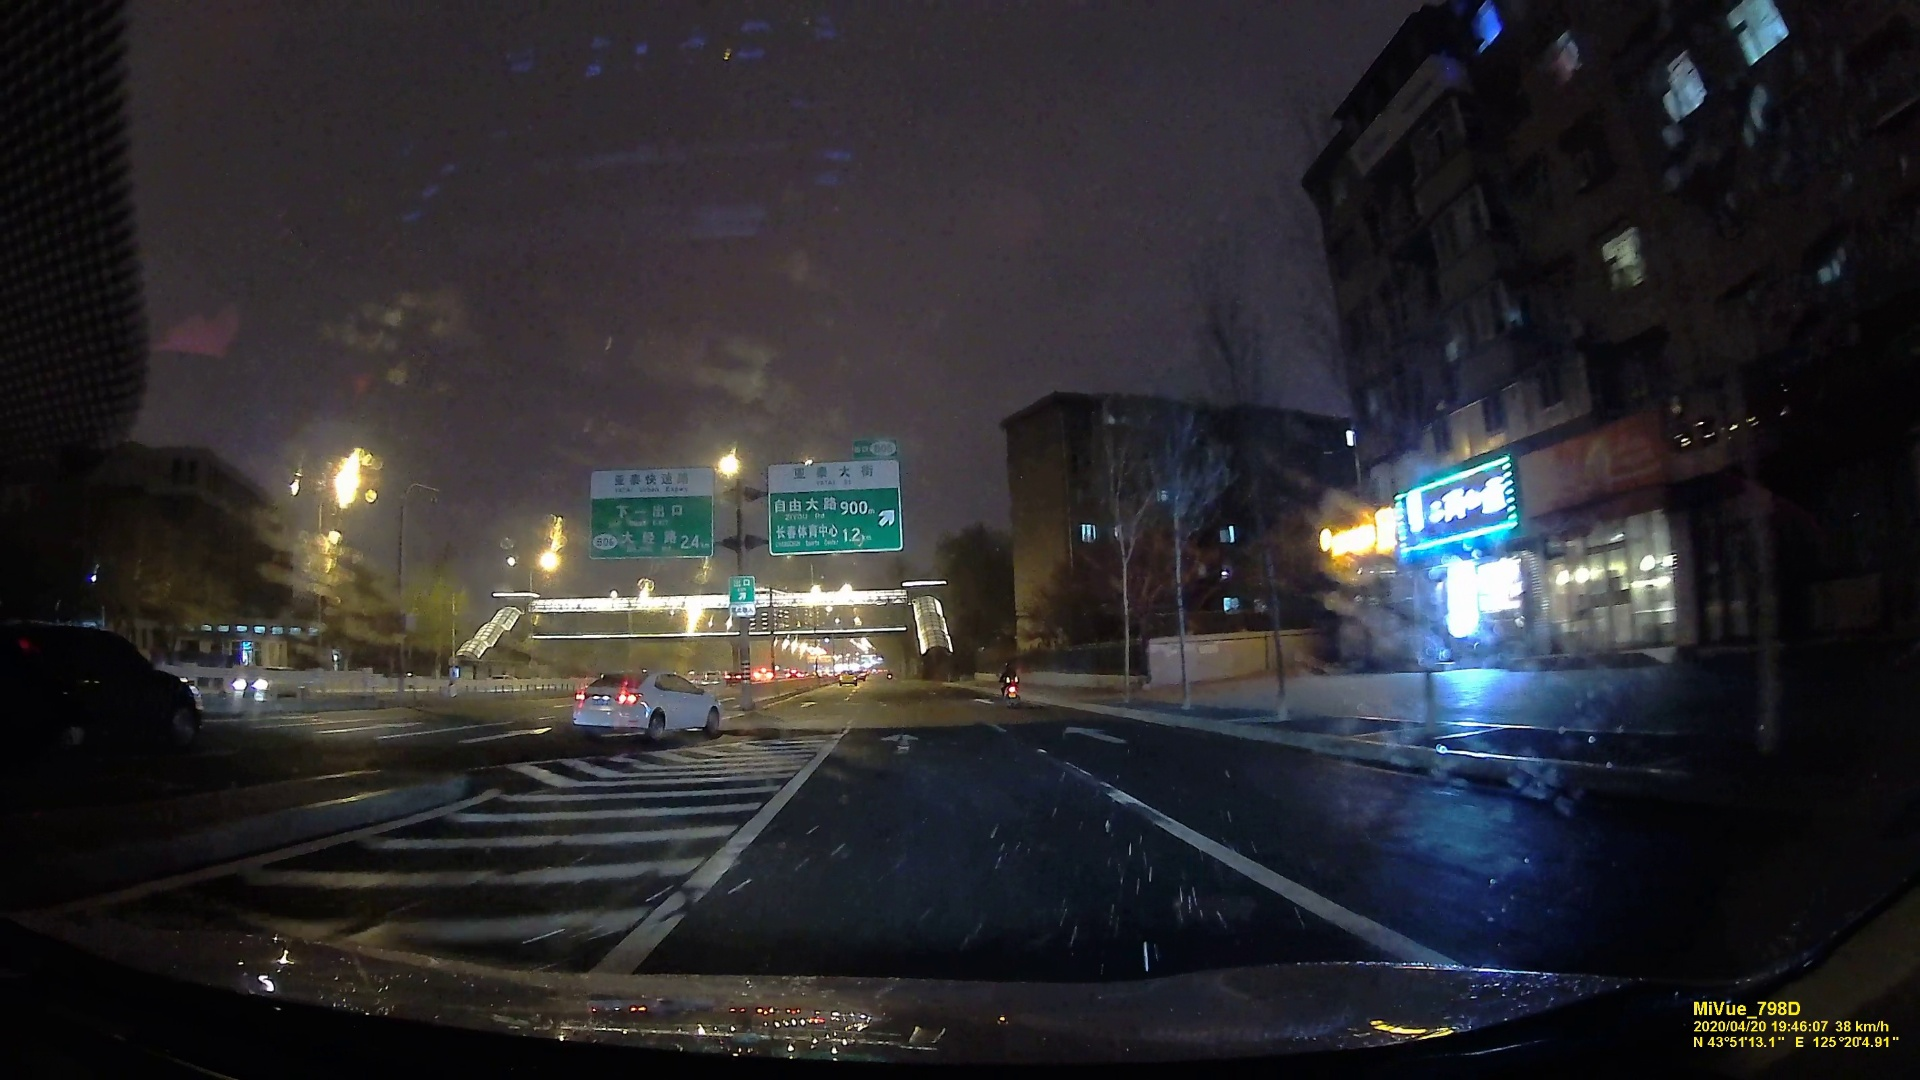person: (999, 655, 1014, 681)
traffic_sign: (764, 466, 900, 550), (588, 469, 708, 554), (728, 574, 756, 611)
vehicle: (569, 665, 720, 739), (222, 663, 301, 691)
